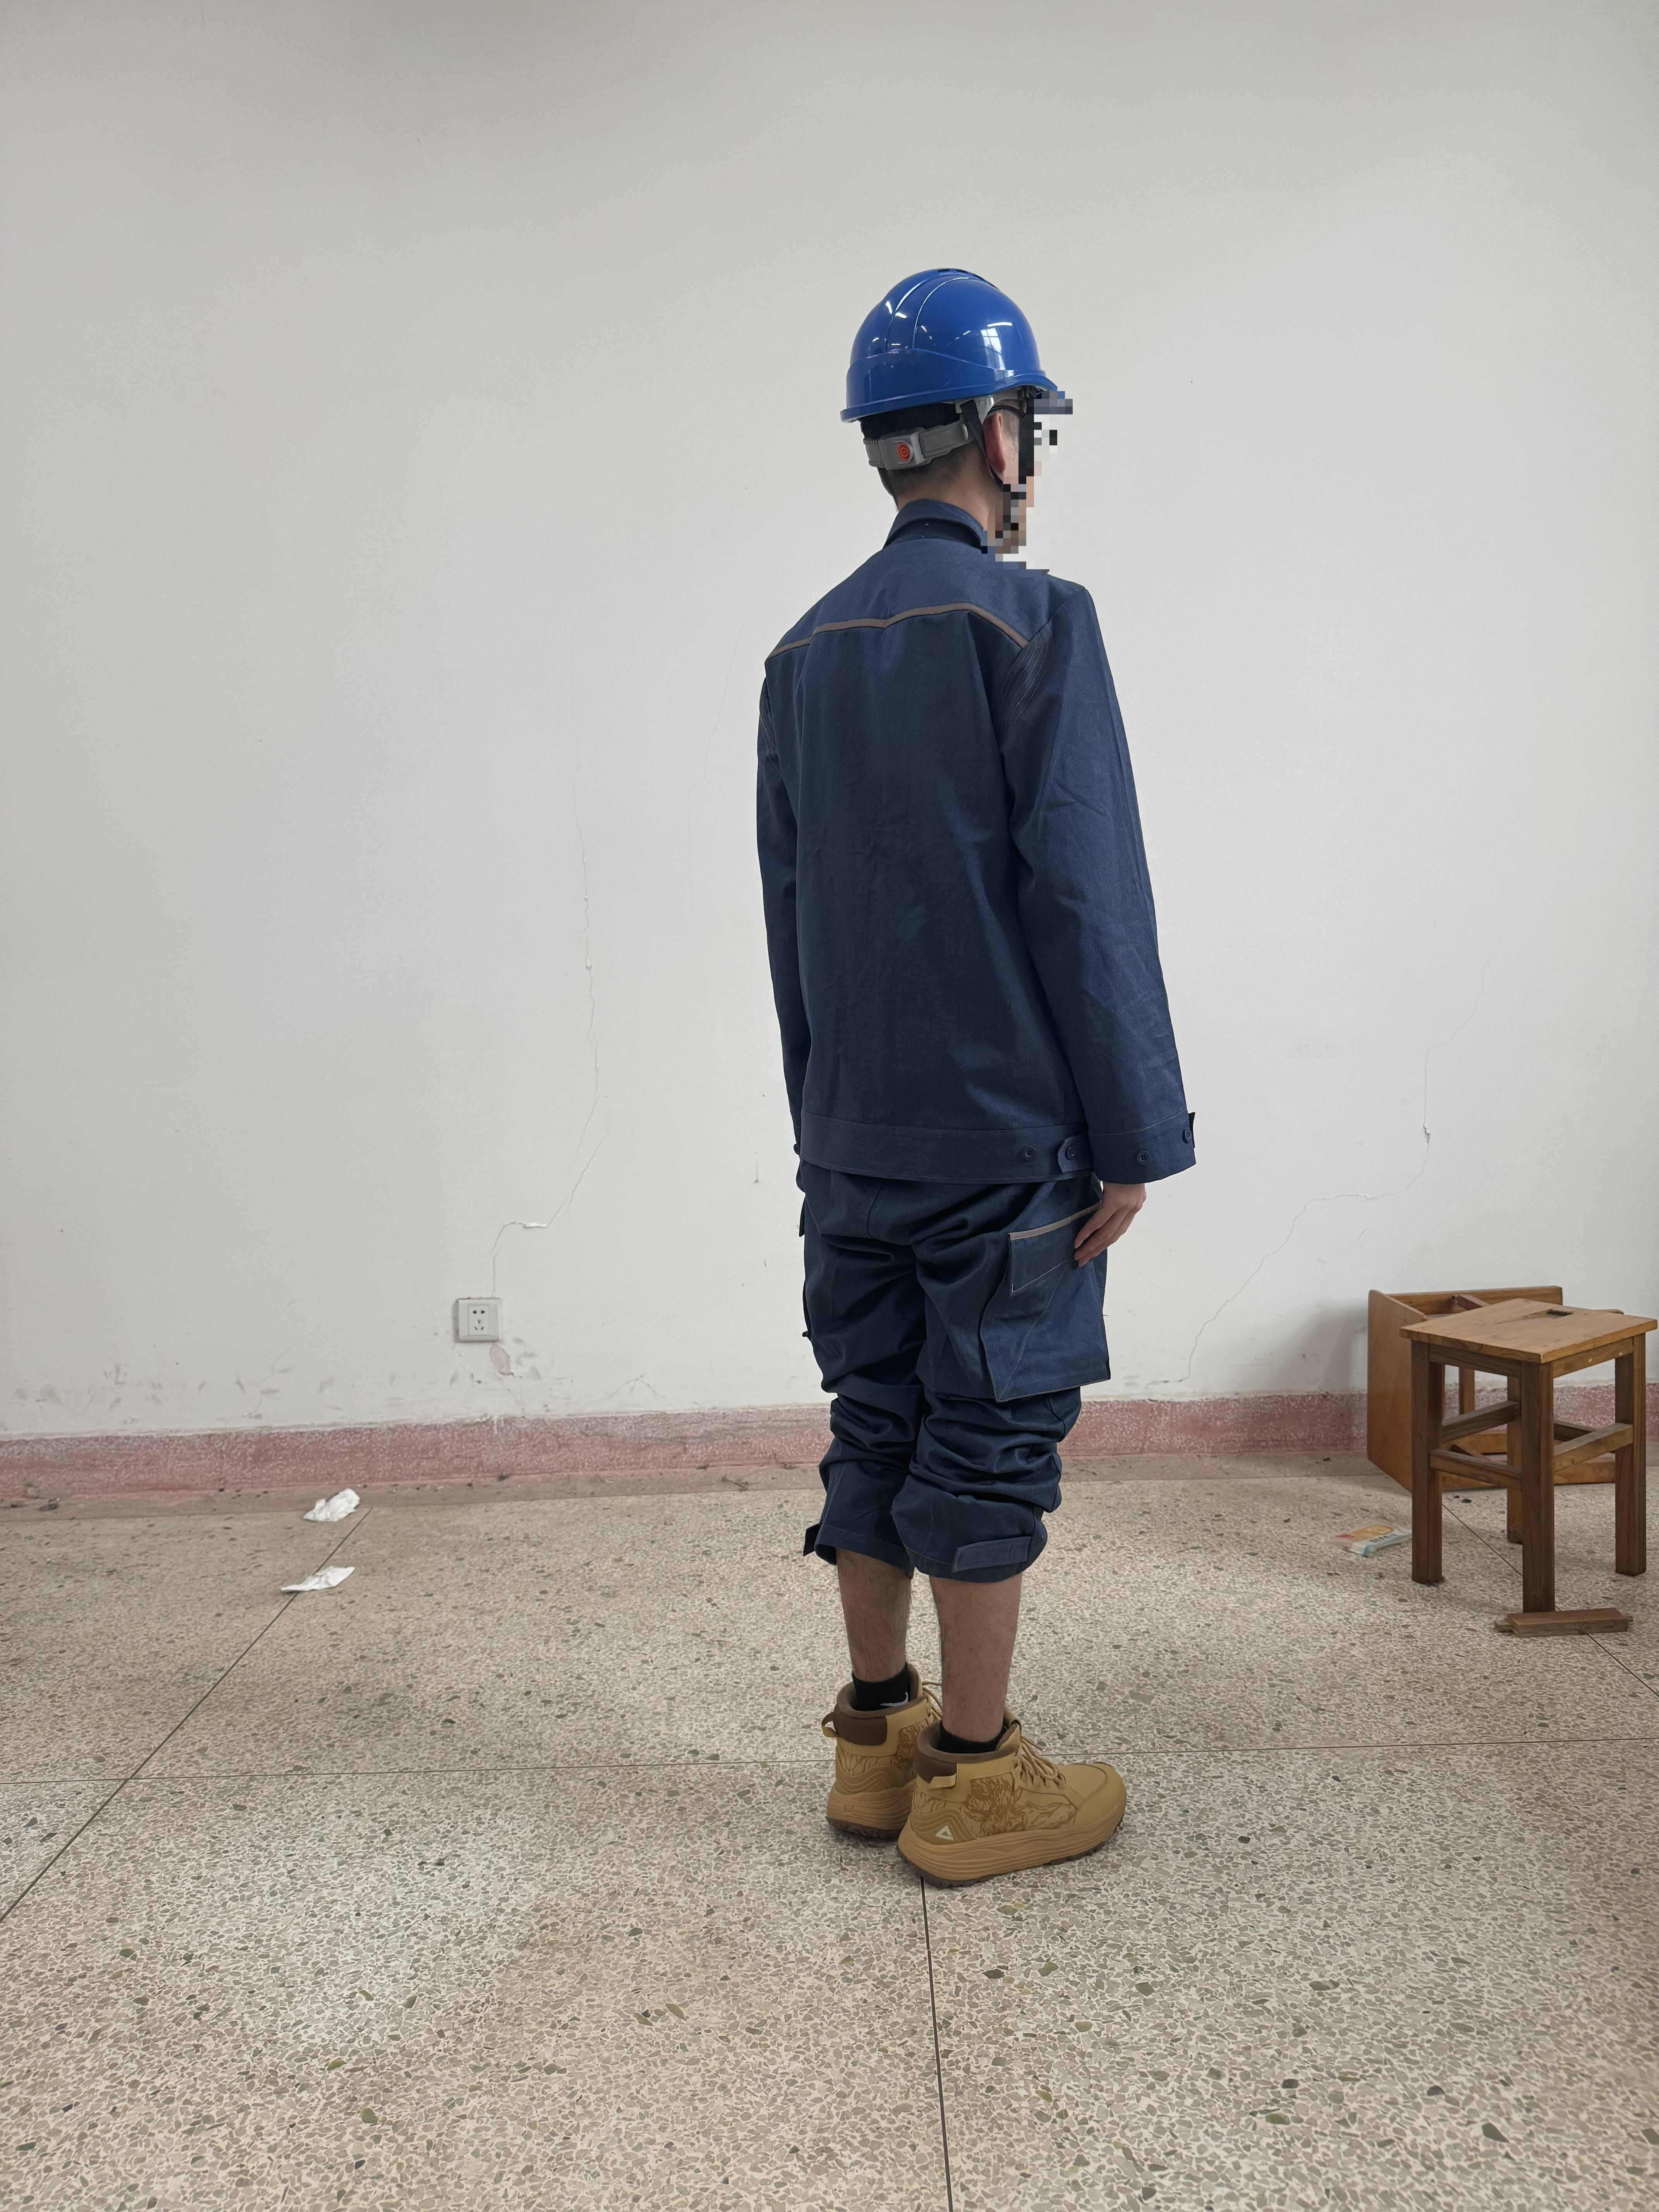halt: (835, 266, 1079, 552)
inear: (960, 401, 1033, 517)
